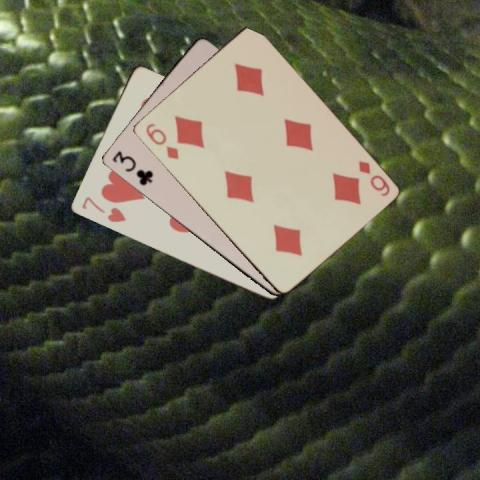3c: (109, 148, 154, 187)
6d: (142, 120, 180, 161), (355, 157, 391, 198)
7h: (78, 193, 127, 224)
